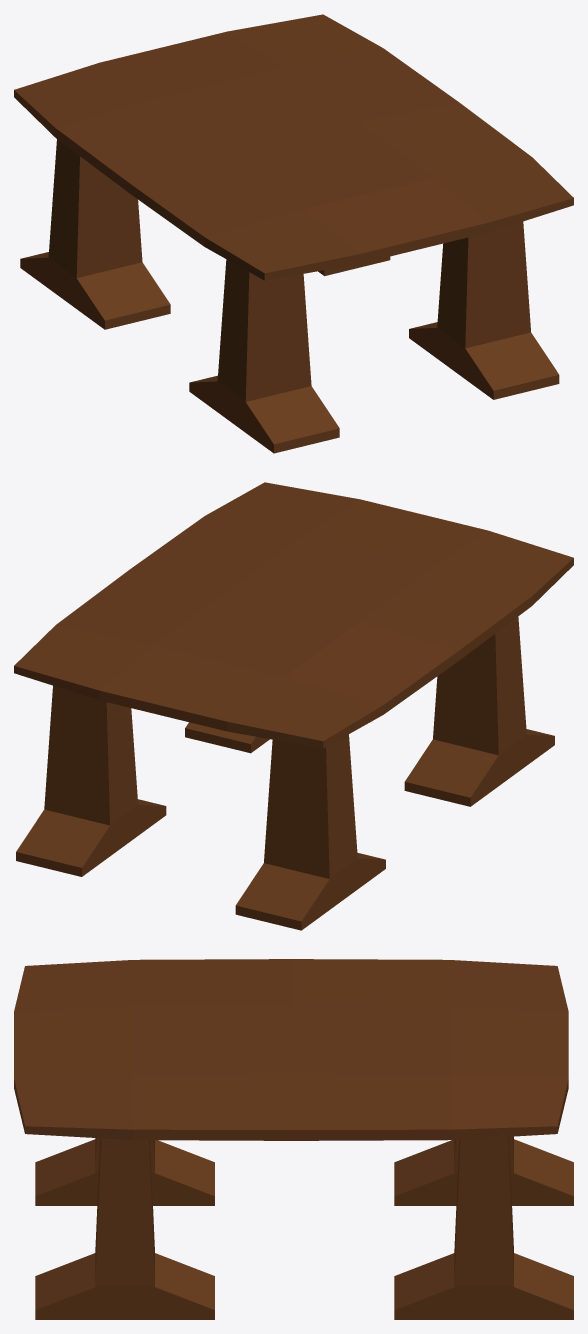
Rendered from Mesa.fbx.
The picture shows the model from 3 angles, top to bottom: view 1: azimuth 30°, elevation 25°; view 2: azimuth 150°, elevation 25°; view 3: azimuth 270°, elevation 25°; orthographic projection. The views are drawn at different scales.
Parts seen in each view (by area): view 1: Mesa; view 2: Mesa; view 3: Mesa.
Boxes of the visible parts, x1,y1,x2,y2 form: Mesa: (14, 14, 573, 453); Mesa: (14, 482, 573, 930); Mesa: (14, 959, 573, 1319).
Size of the model in its own units: 451 by 252 by 624.
